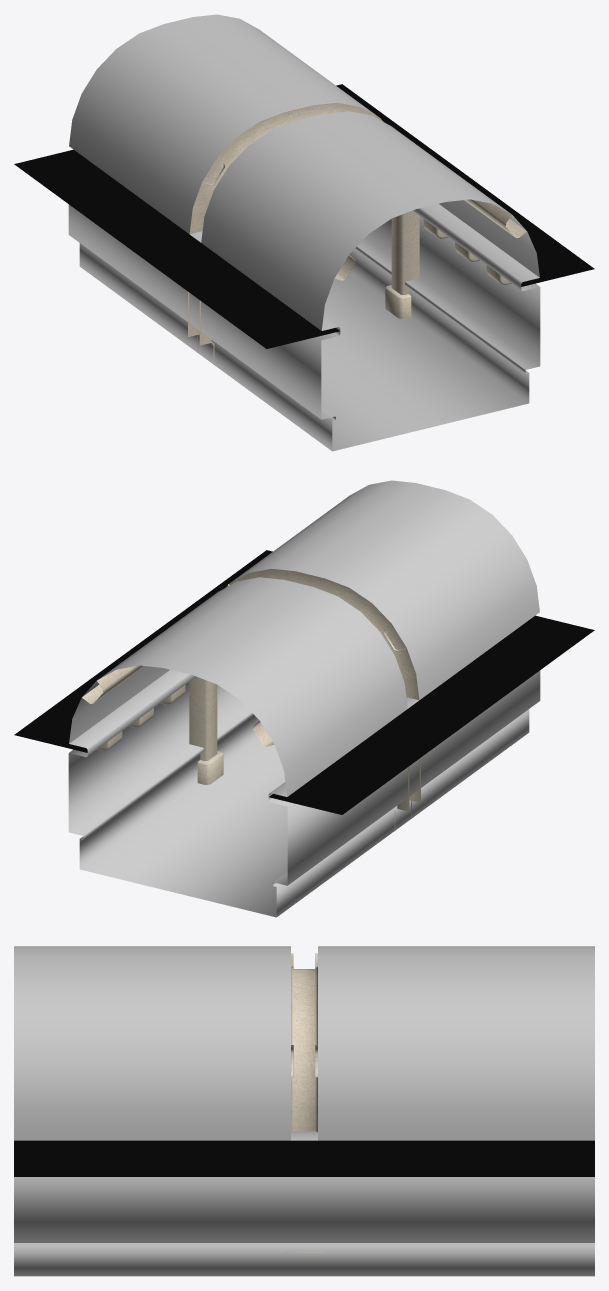
File: dungeon_Modelling Tile_01.fbx
3 renders of one model, top to bottom at view 1: azimuth 30°, elevation 25°; view 2: azimuth 150°, elevation 25°; view 3: azimuth 270°, elevation 25°, orthographic. The views are drawn at different scales.
Visible parts, largest first — view 1: dungeon_Tile_01_Left_Roof, dungeon_Tile_01_Left_Wall, dungeon_Tile_01_Right_Wall, dungeon_Tile_01_Right_Roof; view 2: dungeon_Tile_01_Left_Roof, dungeon_Tile_01_Left_Wall, dungeon_Tile_01_Right_Wall, dungeon_Tile_01_Right_Roof; view 3: dungeon_Tile_01_Right_Roof, dungeon_Tile_01_Right_Wall, dungeon_Tile_01_Left_Roof.
Part boxes in pixels (left/top/right/bottom): dungeon_Tile_01_Left_Roof: left=69, top=20, right=430, bottom=330; dungeon_Tile_01_Left_Wall: left=14, top=149, right=430, bottom=451; dungeon_Tile_01_Right_Wall: left=321, top=84, right=594, bottom=427; dungeon_Tile_01_Right_Roof: left=178, top=14, right=539, bottom=286; dungeon_Tile_01_Left_Roof: left=178, top=486, right=539, bottom=796; dungeon_Tile_01_Left_Wall: left=178, top=615, right=594, bottom=917; dungeon_Tile_01_Right_Wall: left=14, top=550, right=287, bottom=893; dungeon_Tile_01_Right_Roof: left=69, top=480, right=430, bottom=752; dungeon_Tile_01_Right_Roof: left=14, top=966, right=594, bottom=1140; dungeon_Tile_01_Right_Wall: left=14, top=1140, right=594, bottom=1276; dungeon_Tile_01_Left_Roof: left=14, top=946, right=594, bottom=986.
Size of the model in its own units: 90 by 58.13 by 120.
